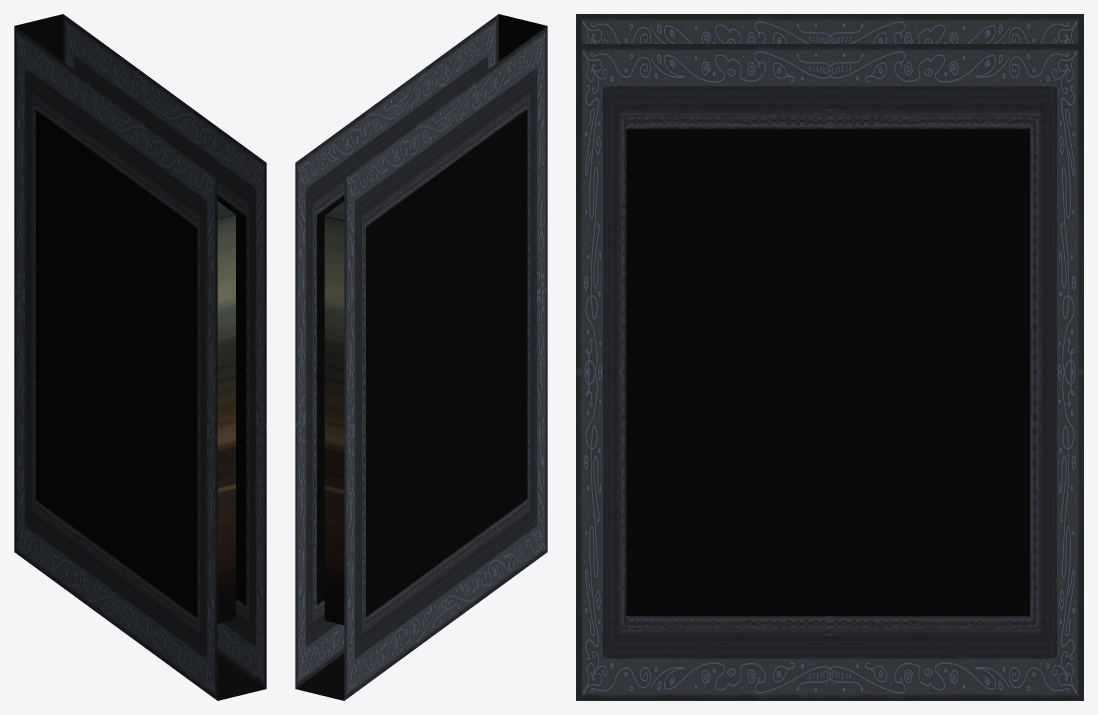
Rendered from AI_goose.glb.
3 views of the same model, side by side, from view 1: azimuth 30°, elevation 25°; view 2: azimuth 150°, elevation 25°; view 3: azimuth 270°, elevation 25° (orthographic). The views are drawn at different scales.
Visible parts, largest first — view 1: 2D_Bilderrahmen_dark, Plane; view 2: 2D_Bilderrahmen_dark, Plane; view 3: 2D_Bilderrahmen_dark.
Part boxes in pixels (bbox=[...]): 2D_Bilderrahmen_dark: bbox=[14, 14, 266, 700]; Plane: bbox=[217, 201, 235, 623]; 2D_Bilderrahmen_dark: bbox=[295, 14, 547, 700]; Plane: bbox=[324, 201, 344, 625]; 2D_Bilderrahmen_dark: bbox=[576, 14, 1083, 700].
Size of the model in its own units: 0.4417 by 4.53 by 3.17.
Materials: 3 (2 with a texture image).
